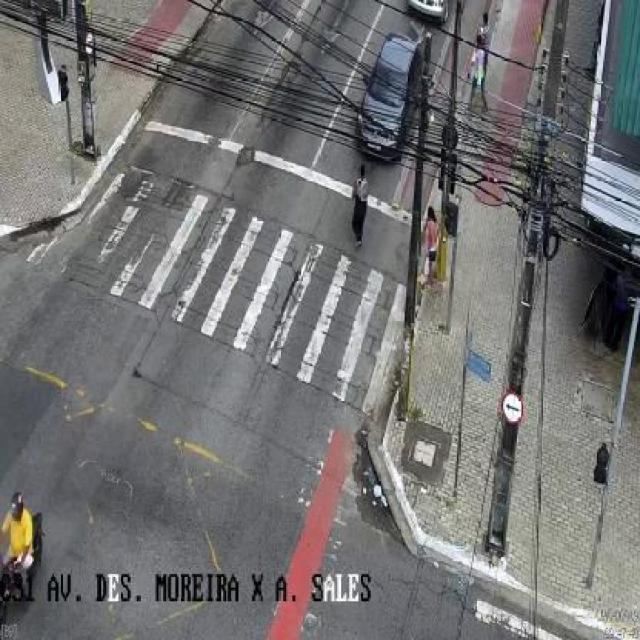Car: (352, 34, 425, 166)
